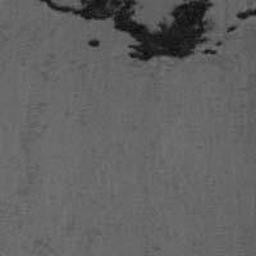Inclusion: (37, 0, 224, 61), (236, 6, 256, 22), (225, 24, 238, 35), (86, 40, 100, 49)
